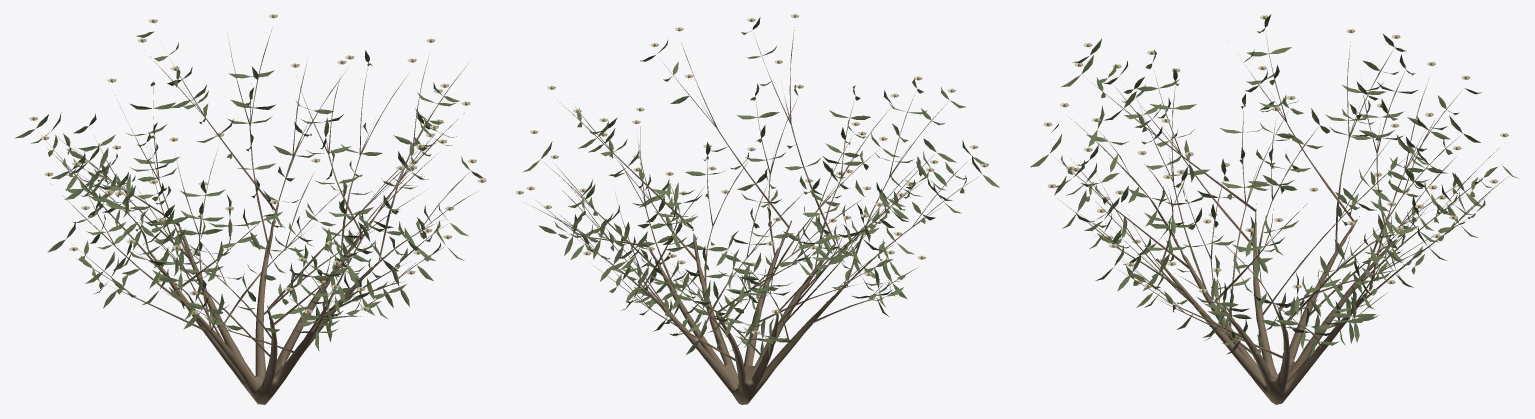
Rendered from Ciste_1_Niveau1.fbx.
The picture shows the model from 3 angles, left to right: view 1: azimuth 30°, elevation 25°; view 2: azimuth 150°, elevation 25°; view 3: azimuth 270°, elevation 25°; orthographic projection. The views are drawn at different scales.
Parts seen in each view (by area): view 1: Ciste_1_Niveau1_Jeu; view 2: Ciste_1_Niveau1_Jeu; view 3: Ciste_1_Niveau1_Jeu.
Part boxes in pixels (x1,y1,x2,y2): Ciste_1_Niveau1_Jeu: (15, 14, 486, 404); Ciste_1_Niveau1_Jeu: (515, 14, 999, 404); Ciste_1_Niveau1_Jeu: (1030, 14, 1518, 404).
Bounding box in the file's own units: 118 × 89.43 × 120.
